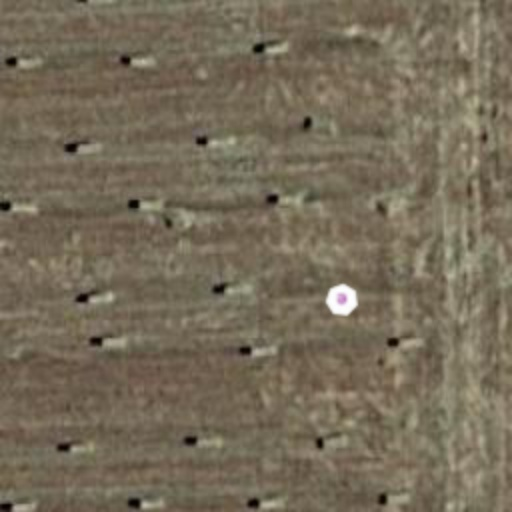heptagon: (322, 280, 362, 320)
